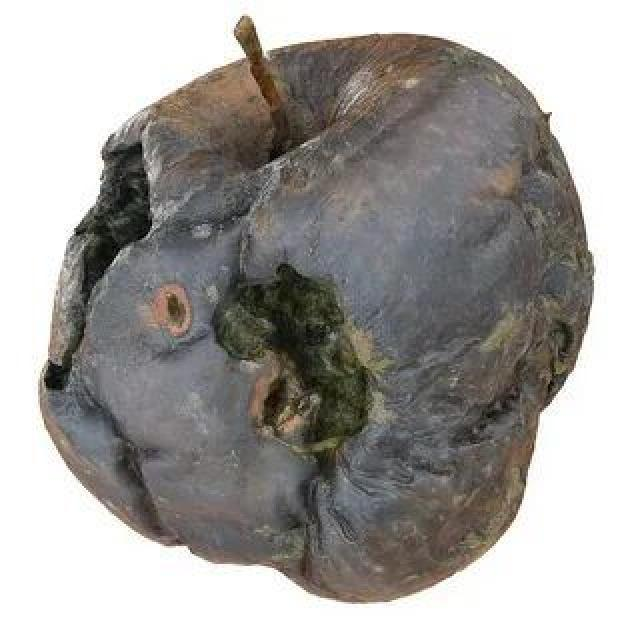Rotten: (55, 45, 558, 588)
